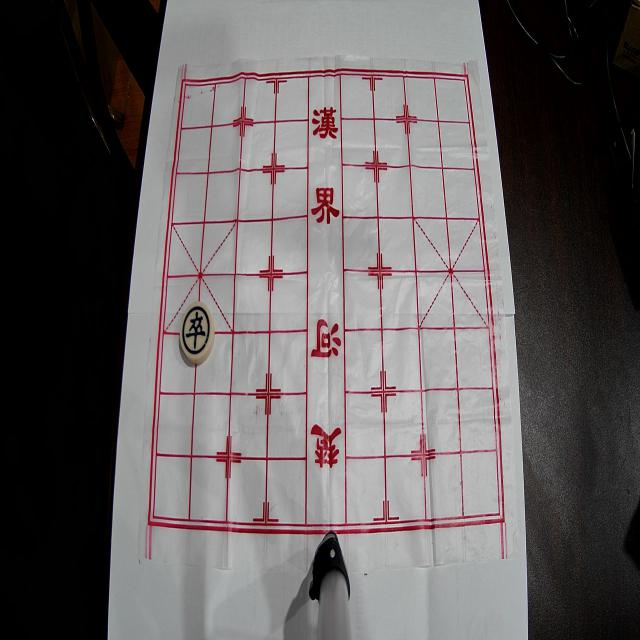black-soldier: (180, 302, 215, 364)
